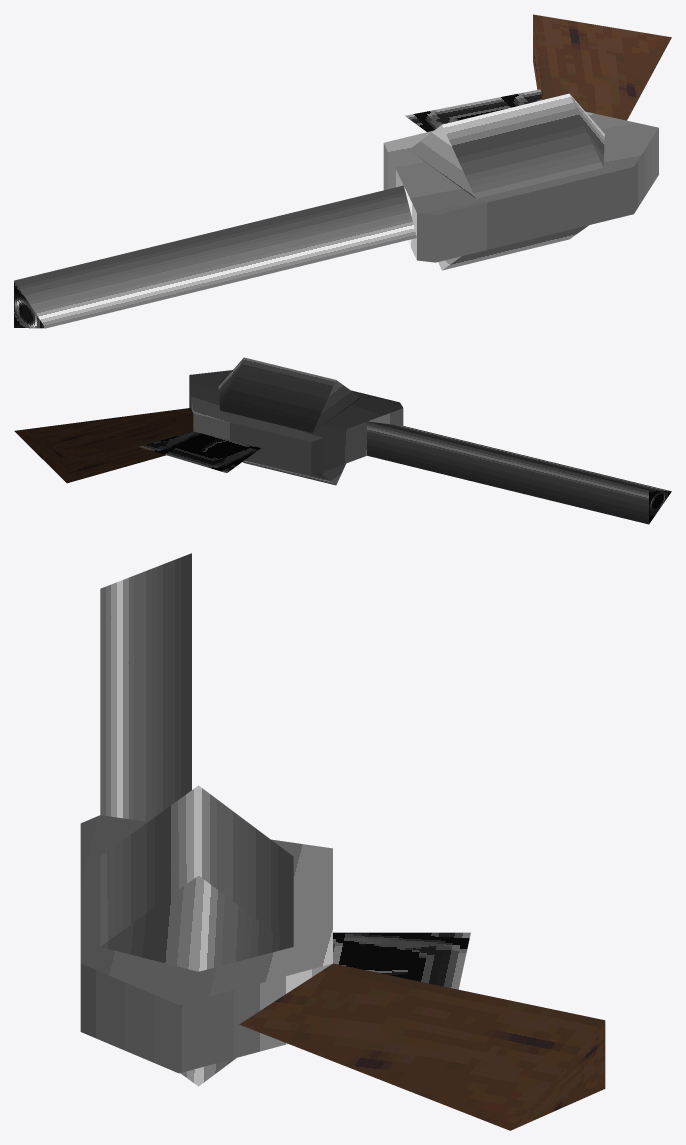
The model's file is PchrrugerZ.obj.
3 views of the same model, one above another, from view 1: azimuth 30°, elevation 25°; view 2: azimuth 150°, elevation 25°; view 3: azimuth 270°, elevation 25° (orthographic). The views are drawn at different scales.
Size of the model in its own units: 391 by 71 by 160.
4 materials, 4 textured.
